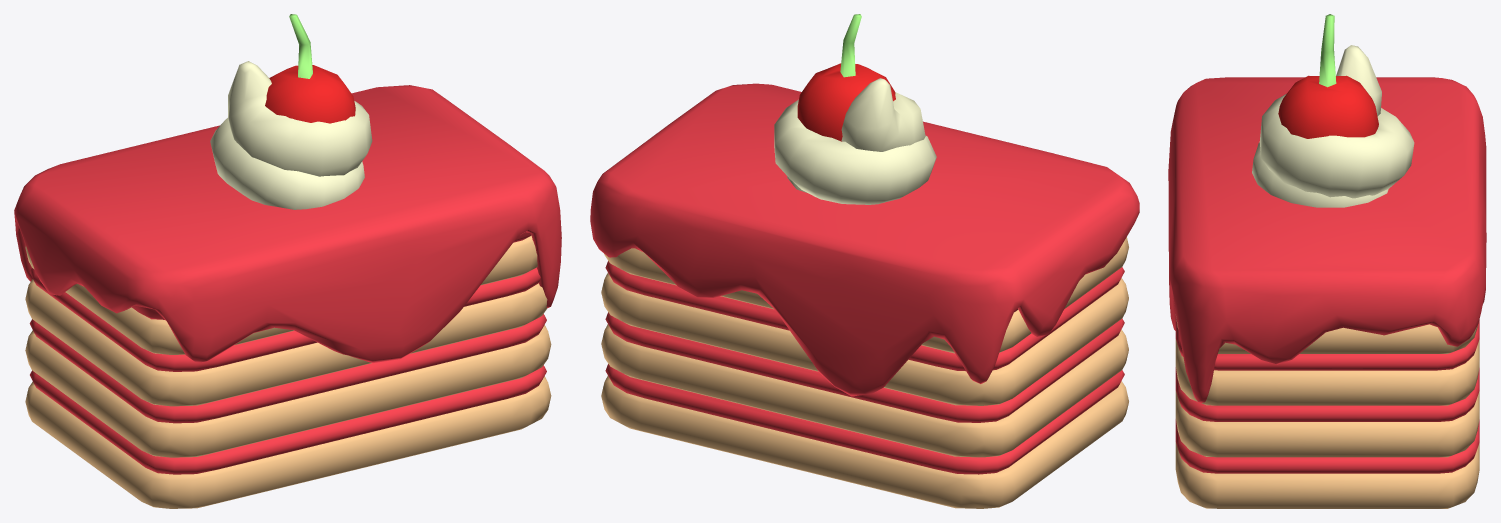
The model's file is Cake2.fbx.
3 renders of one model, left to right at view 1: azimuth 30°, elevation 25°; view 2: azimuth 150°, elevation 25°; view 3: azimuth 270°, elevation 25°, orthographic.
Parts seen in each view (by area): view 1: Cake2; view 2: Cake2; view 3: Cake2.
Part boxes in pixels (<box>): Cake2: <box>14,14,561,508</box>; Cake2: <box>590,14,1139,508</box>; Cake2: <box>1168,14,1486,508</box>.
Size of the model in its own units: 42.04 by 36.91 by 26.56.
